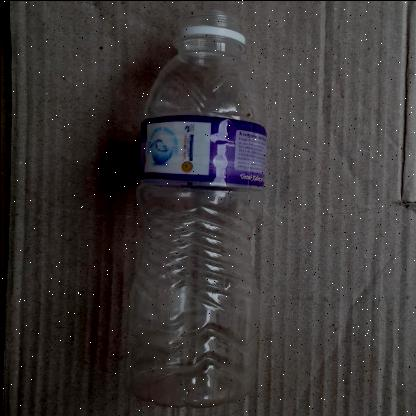Plastic Bottle: (130, 2, 268, 408)
